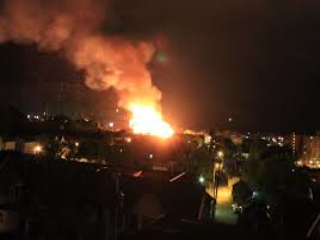fire: (123, 107, 183, 143)
smoke: (6, 3, 170, 101)
